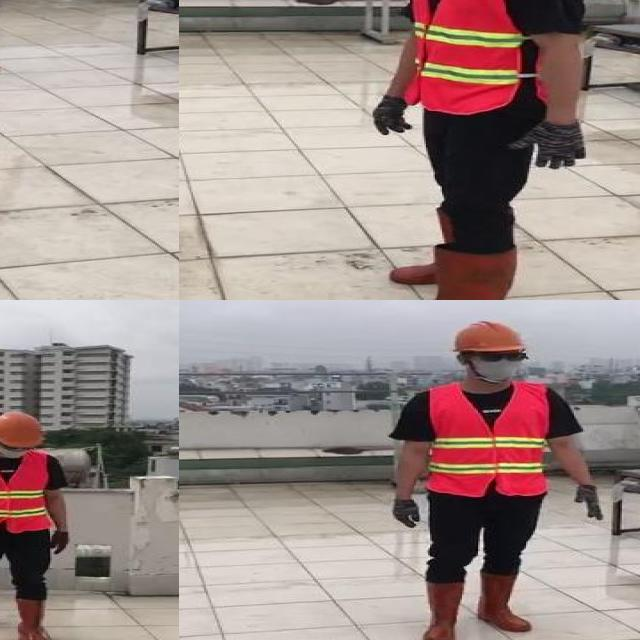boots: (390, 209, 500, 287), (371, 247, 515, 300), (476, 572, 537, 632), (421, 579, 467, 640), (12, 598, 55, 640)
face_mask: (469, 349, 530, 383)
glasses: (476, 348, 530, 364)
hand_glove: (510, 119, 588, 171), (372, 94, 412, 137), (572, 485, 606, 520), (391, 498, 421, 528), (46, 530, 70, 554)
head_helmet: (456, 320, 532, 356), (0, 411, 44, 448)
person: (378, 323, 614, 640), (348, 0, 595, 300), (0, 409, 76, 640)
vest: (406, 0, 541, 109), (425, 383, 549, 497), (0, 449, 57, 532)
